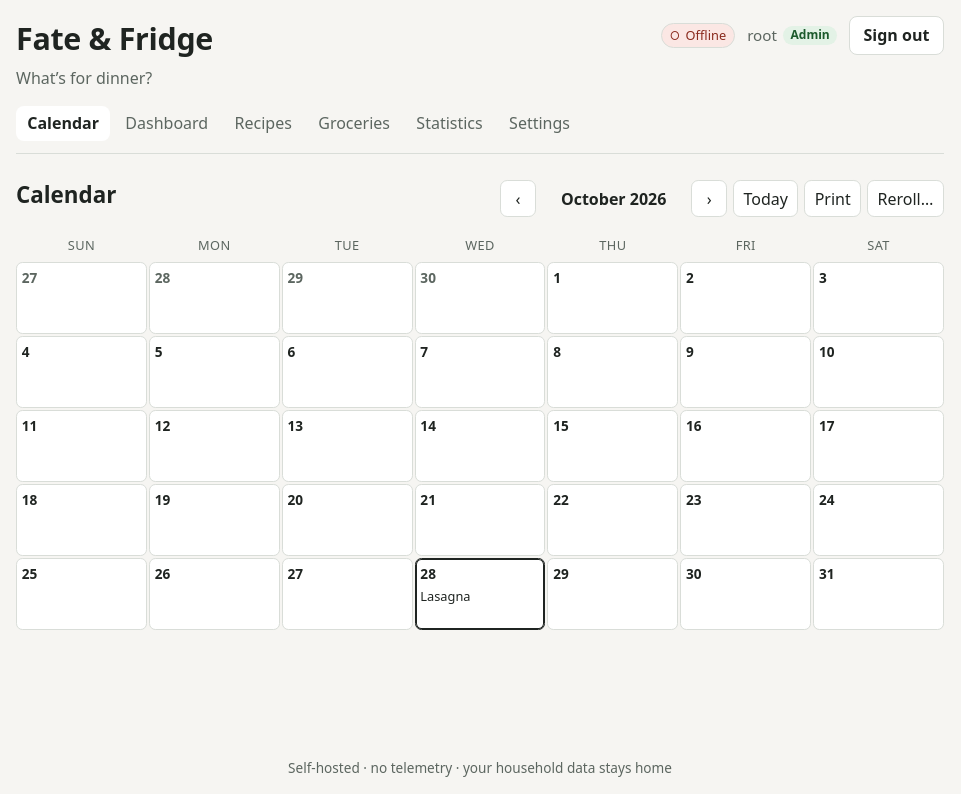
reroll and undo › rerolls from the month-grid context menu
Right-click the cell named "today": (480, 594) [415,558,546,630]
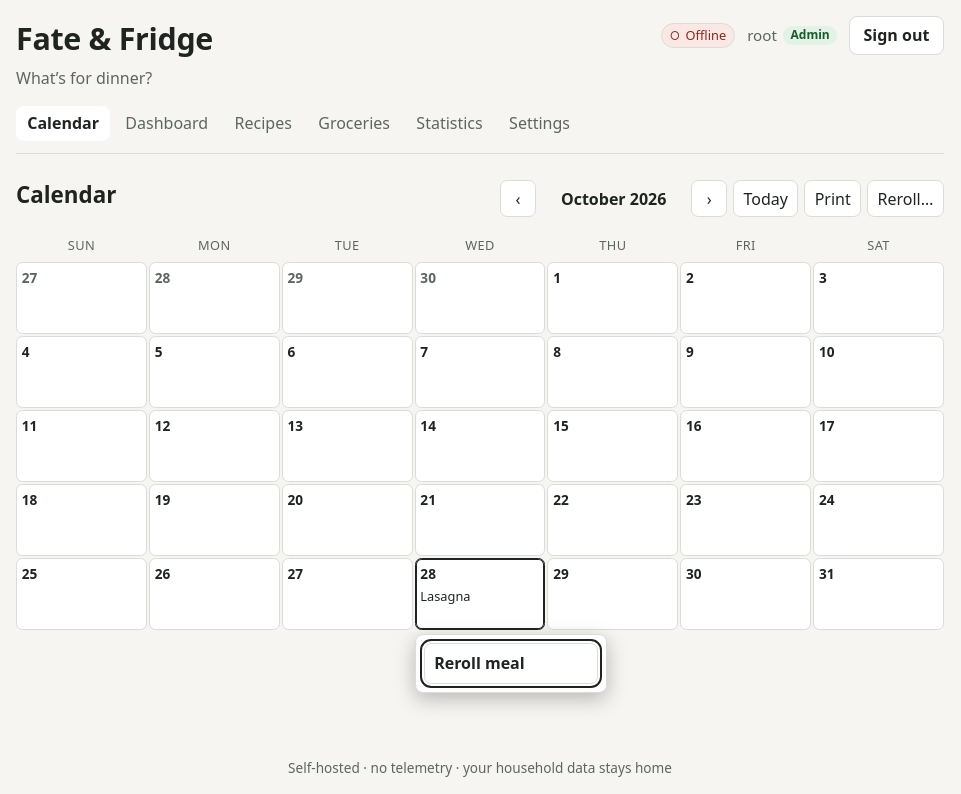
Click the menu item "Reroll meal": (511, 663) [424,643,598,684]
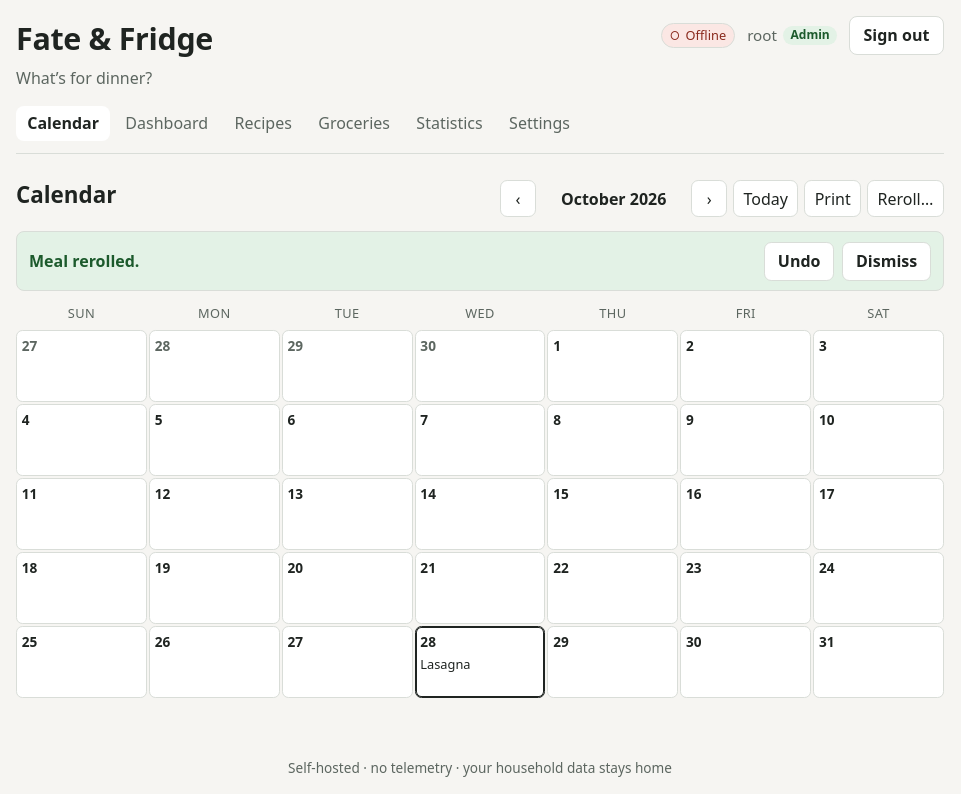
Expected: the text "Meal rerolled." is shown, [29,249,139,273]
